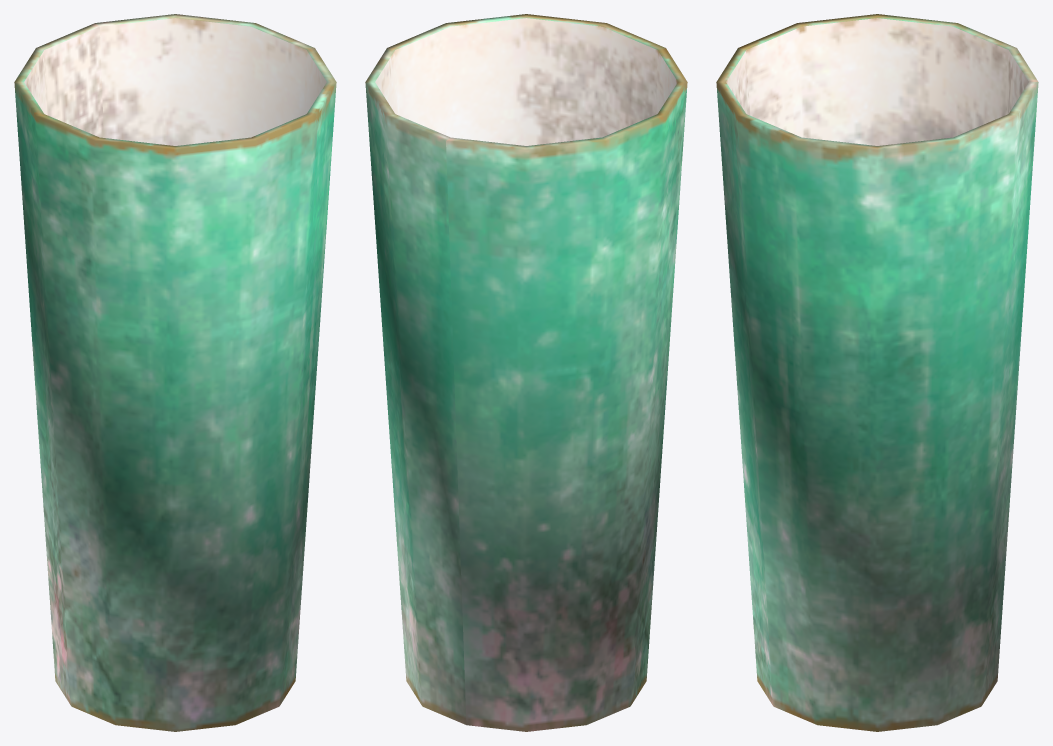
The model's file is tincanVase03.FBX.
The picture shows the model from 3 angles, left to right: view 1: azimuth 30°, elevation 25°; view 2: azimuth 150°, elevation 25°; view 3: azimuth 270°, elevation 25°; orthographic projection.
Visible parts, largest first — view 1: SM_TinCanVase03; view 2: SM_TinCanVase03; view 3: SM_TinCanVase03.
Boxes of the visible parts, <box> form: SM_TinCanVase03: <box>14,14,336,731</box>; SM_TinCanVase03: <box>365,14,687,731</box>; SM_TinCanVase03: <box>716,14,1038,731</box>.
Size of the model in its own units: 14 by 28.72 by 14.
Materials: 1 (1 with a texture image).
